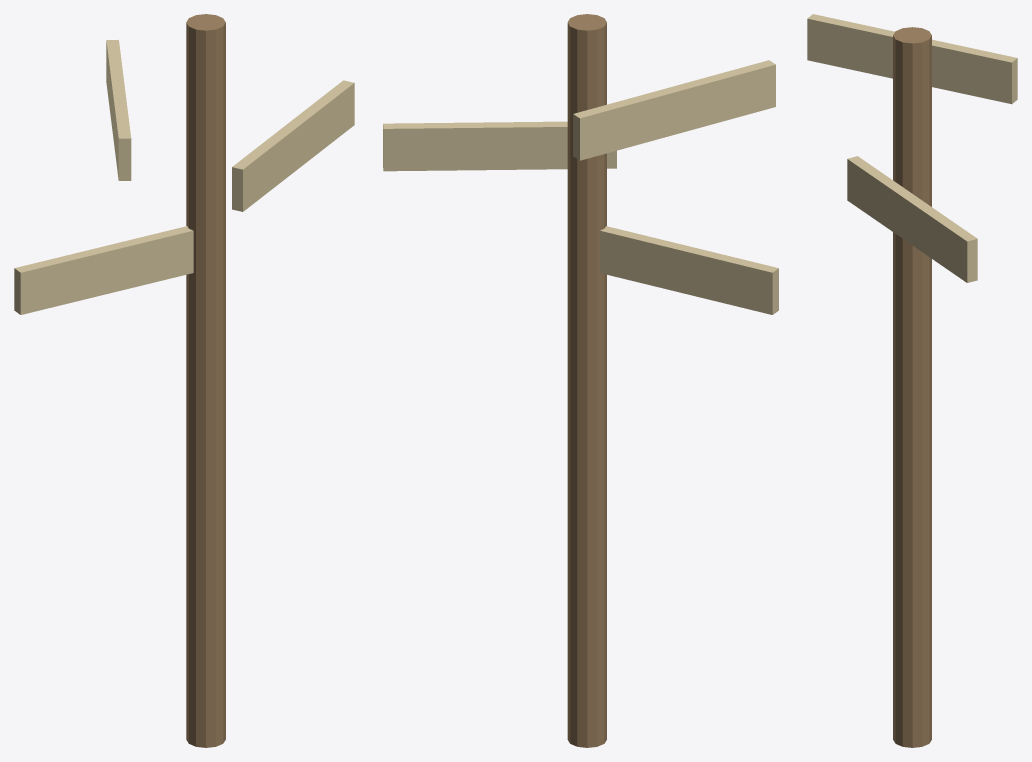
Rendered from zoo-and-safari-park-builder-direction-post-cfda83cf__21496.glb.
3 renders of one model, left to right at view 1: azimuth 30°, elevation 25°; view 2: azimuth 150°, elevation 25°; view 3: azimuth 270°, elevation 25°, orthographic.
Visible parts, largest first — view 1: direction-post; view 2: direction-post; view 3: direction-post.
Part boxes in pixels (x1,y1,x2,y2): direction-post: (14,14,354,747); direction-post: (383,14,778,747); direction-post: (807,14,1017,747).
Size of the model in its own units: 1.17 by 2.2 by 0.5951.
